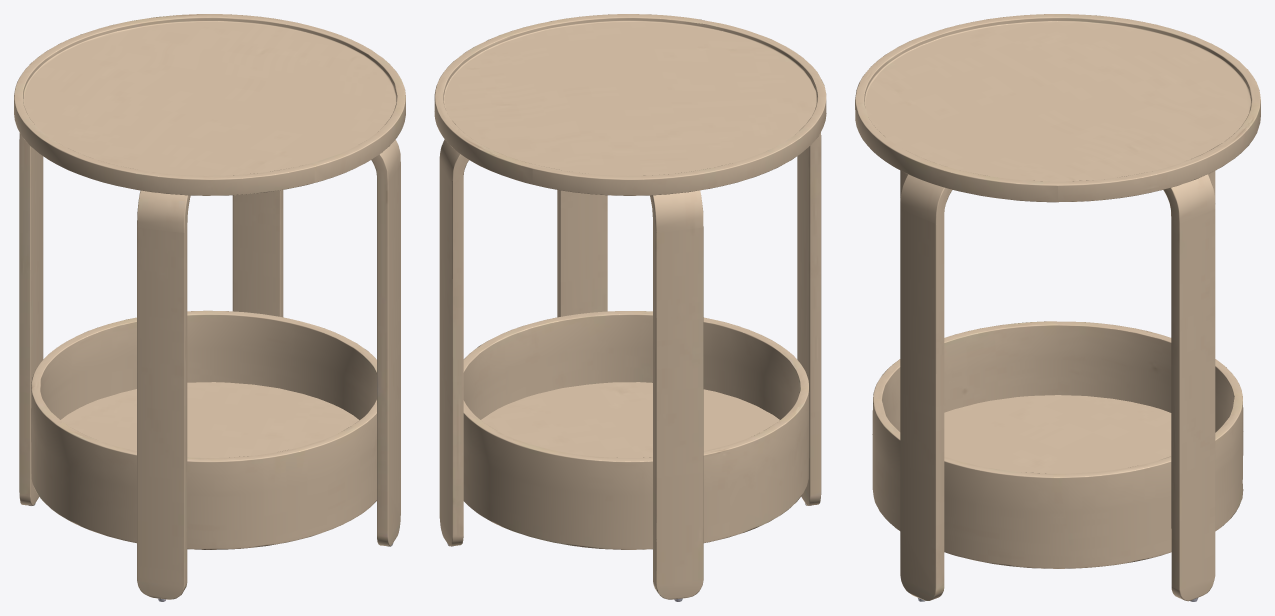
The picture shows the model from 3 angles, left to right: view 1: azimuth 30°, elevation 25°; view 2: azimuth 150°, elevation 25°; view 3: azimuth 270°, elevation 25°; orthographic projection. The views are drawn at different scales.
Parts seen in each view (by area): view 1: ASY_ART_80619880_S01_NV01; view 2: ASY_ART_80619880_S01_NV01; view 3: ASY_ART_80619880_S01_NV01.
Part boxes in pixels (box(x1,y1,x2,y2)): ASY_ART_80619880_S01_NV01: box(14, 14, 405, 601); ASY_ART_80619880_S01_NV01: box(434, 14, 826, 601); ASY_ART_80619880_S01_NV01: box(855, 14, 1260, 601).
Size of the model in its own units: 0.4601 by 0.555 by 0.4601.
1 material, 1 textured.
